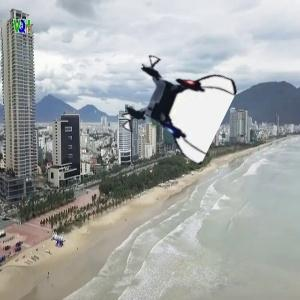drone: (125, 56, 226, 157)
